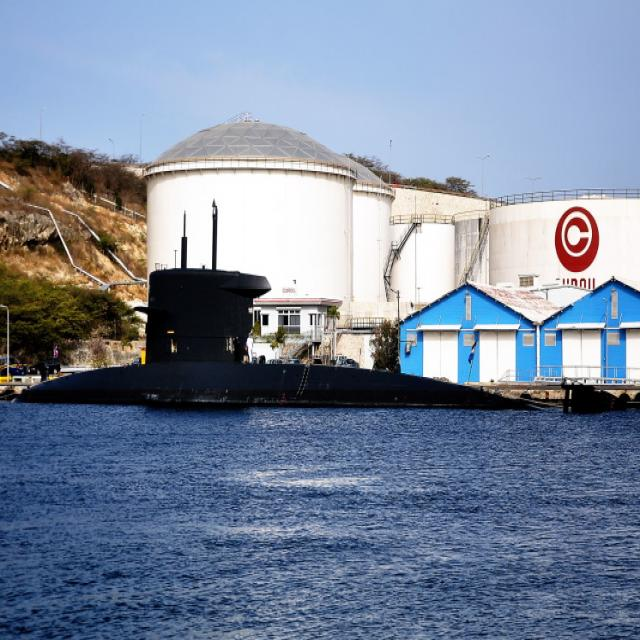submarine: (23, 190, 554, 403)
